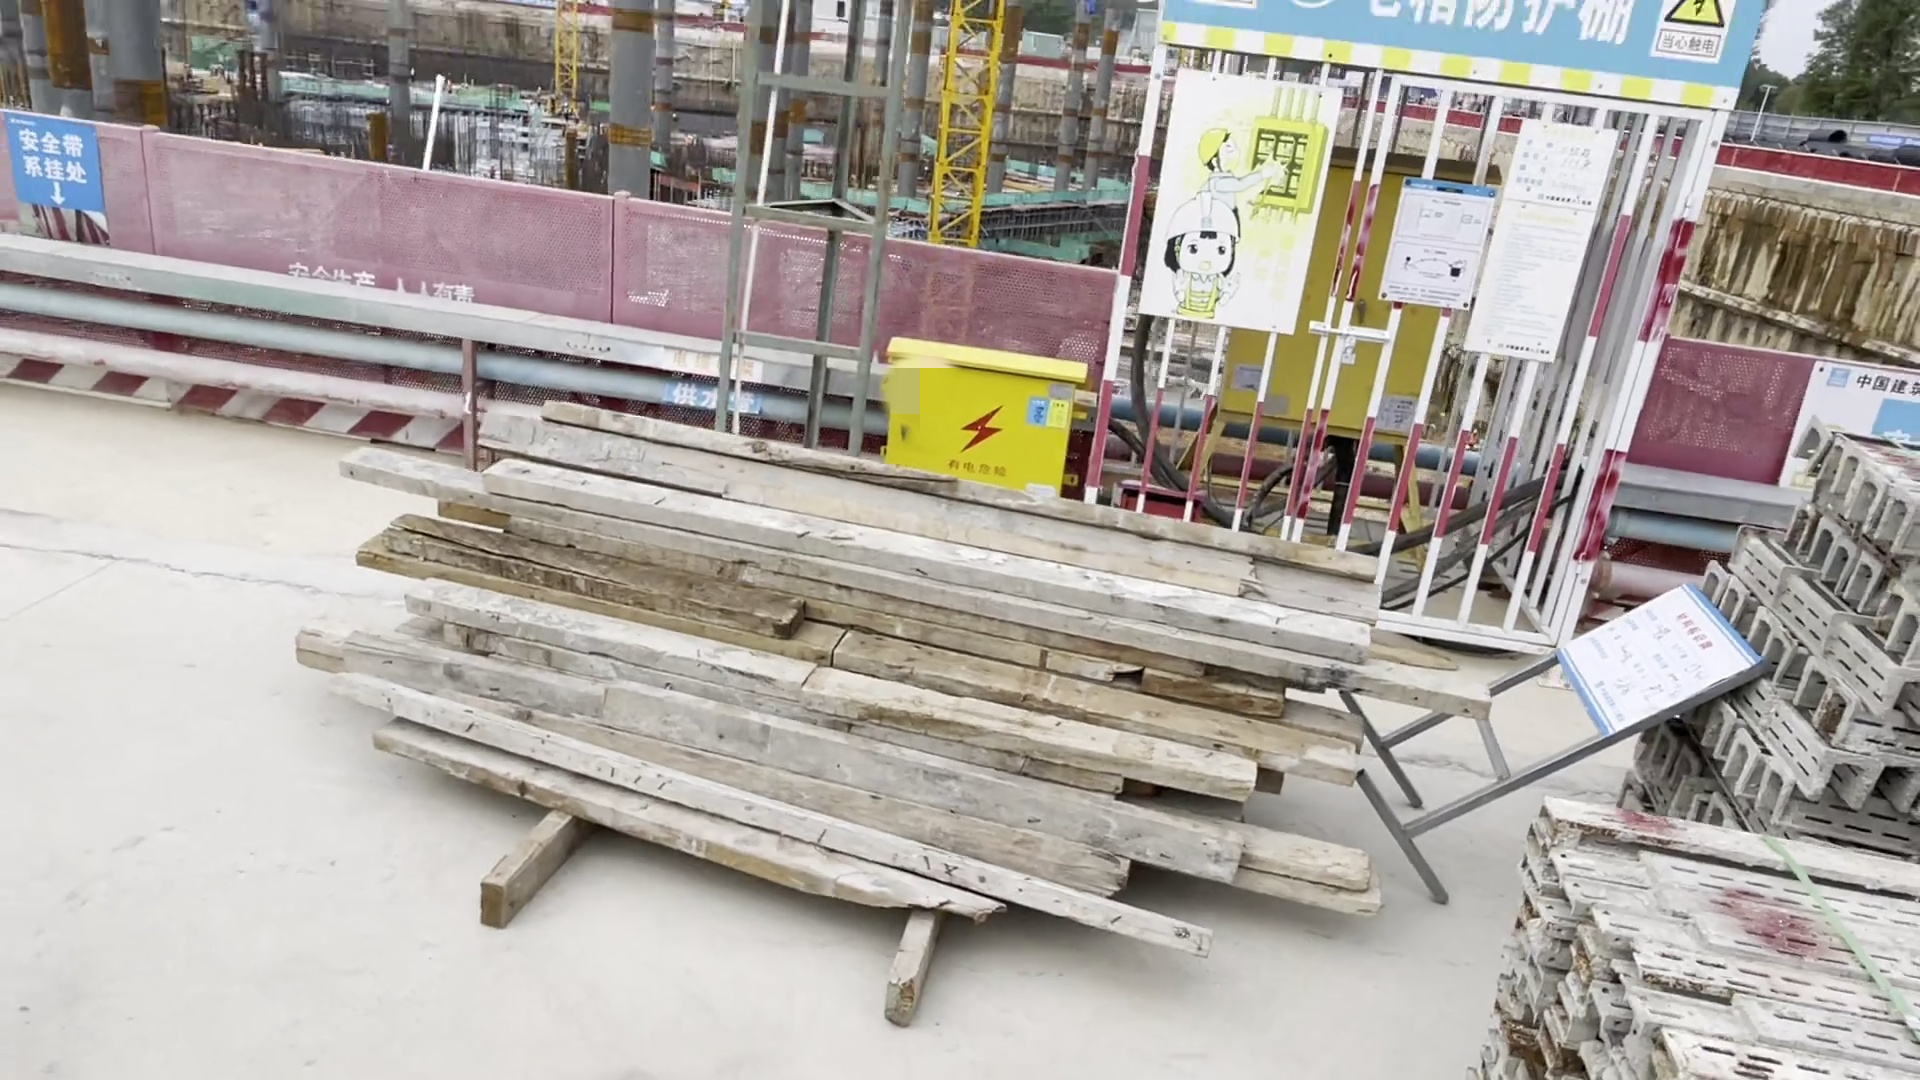ebox: (1175, 157, 1509, 568), (877, 334, 1088, 491)
fence: (1, 102, 1116, 510), (1596, 342, 1920, 611)
slogan: (1650, 1, 1741, 69)
wood: (297, 396, 1495, 953)
